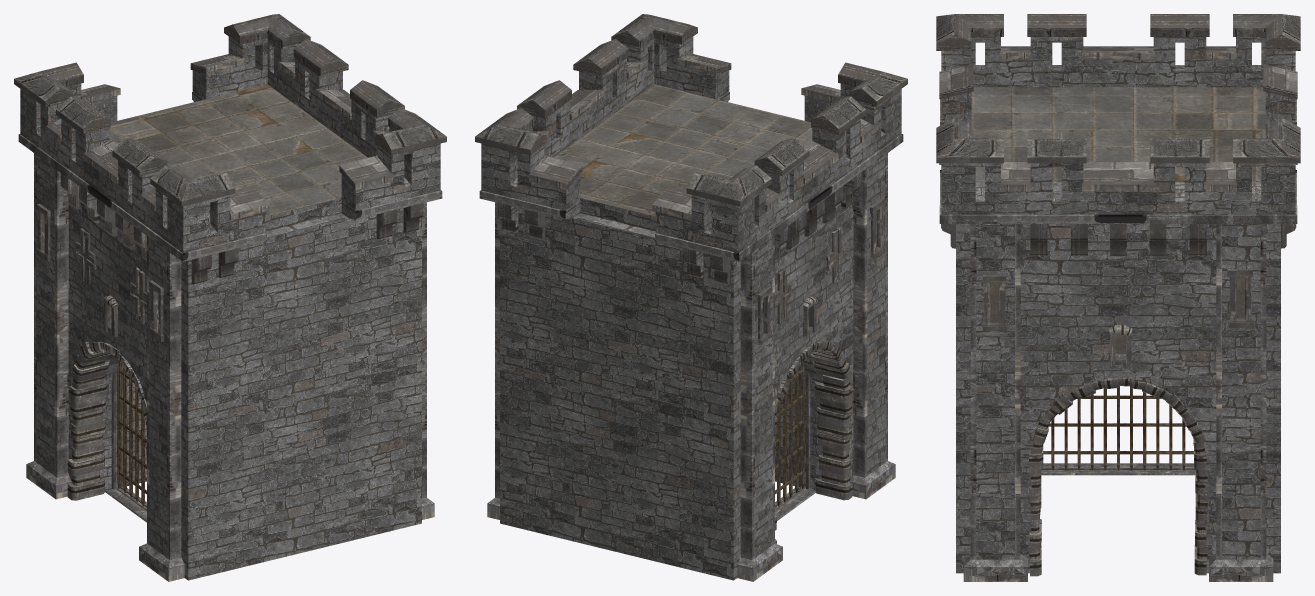
The model's file is MC_Castle_Gates_A.fbx.
3 renders of one model, left to right at view 1: azimuth 30°, elevation 25°; view 2: azimuth 150°, elevation 25°; view 3: azimuth 270°, elevation 25°, orthographic. The views are drawn at different scales.
Visible parts, largest first — view 1: MC_Castle_Gates_A_LOD0, MC_Castle_Gates_01; view 2: MC_Castle_Gates_A_LOD0, MC_Castle_Gates_01; view 3: MC_Castle_Gates_A_LOD0, MC_Castle_Gates_01.
Part boxes in pixels (x1,y1,x2,y2): MC_Castle_Gates_A_LOD0: (14, 14, 446, 581); MC_Castle_Gates_01: (117, 360, 146, 506); MC_Castle_Gates_A_LOD0: (475, 14, 907, 581); MC_Castle_Gates_01: (775, 361, 804, 506); MC_Castle_Gates_A_LOD0: (936, 14, 1300, 581); MC_Castle_Gates_01: (1043, 386, 1193, 470).
Size of what is drawn, in the model's own units: 823 by 1185 by 897.
